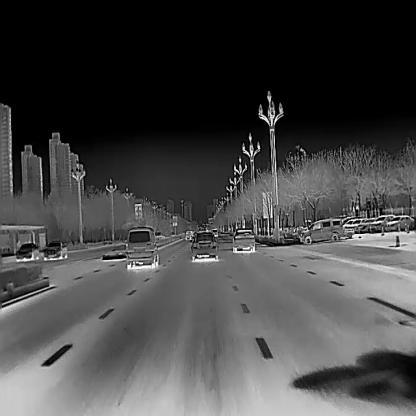car: (126, 226, 159, 268), (300, 218, 343, 244), (190, 232, 218, 260), (232, 227, 256, 252), (369, 214, 395, 232), (385, 215, 414, 231), (43, 240, 67, 258), (15, 242, 38, 259), (343, 217, 364, 231), (356, 218, 373, 231), (185, 230, 193, 239), (211, 229, 217, 237)
